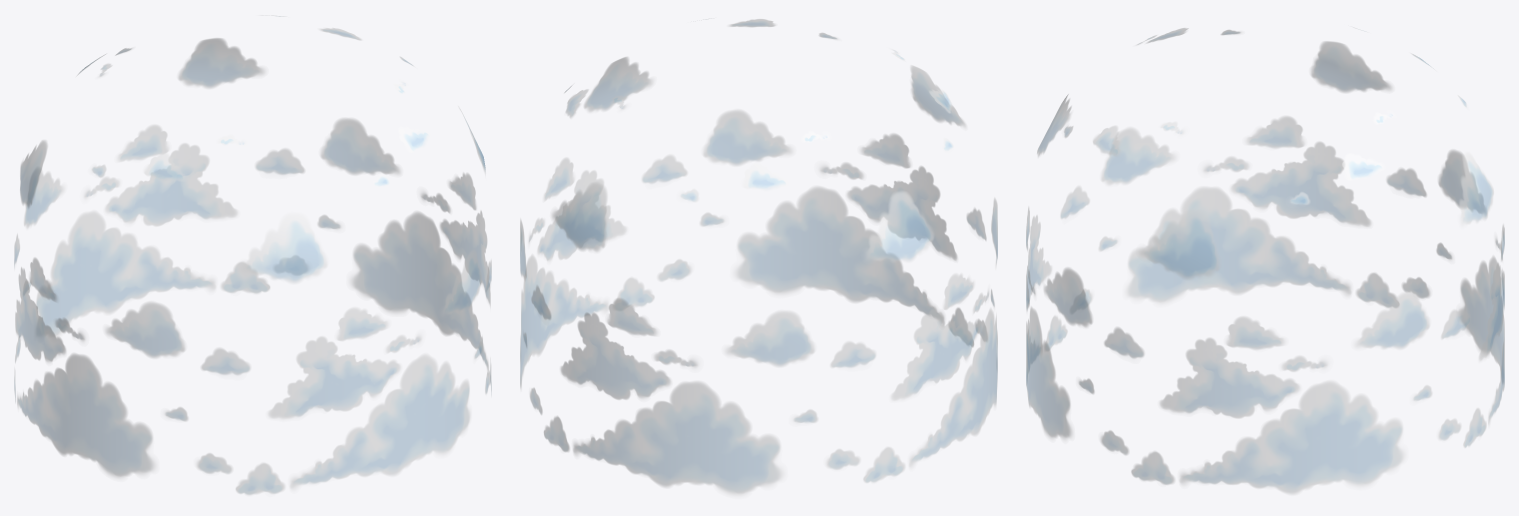
The model's file is SkyClouds.fbx.
3 renders of one model, left to right at view 1: azimuth 30°, elevation 25°; view 2: azimuth 150°, elevation 25°; view 3: azimuth 270°, elevation 25°, orthographic.
Visible parts, largest first — view 1: SkyClouds; view 2: SkyClouds; view 3: SkyClouds.
Part boxes in pixels (box(x1,y1,x2,y2)): SkyClouds: box(14, 15, 491, 495); SkyClouds: box(520, 18, 997, 495); SkyClouds: box(1026, 27, 1504, 494).
Size of the model in its own units: 200 by 153 by 200.
